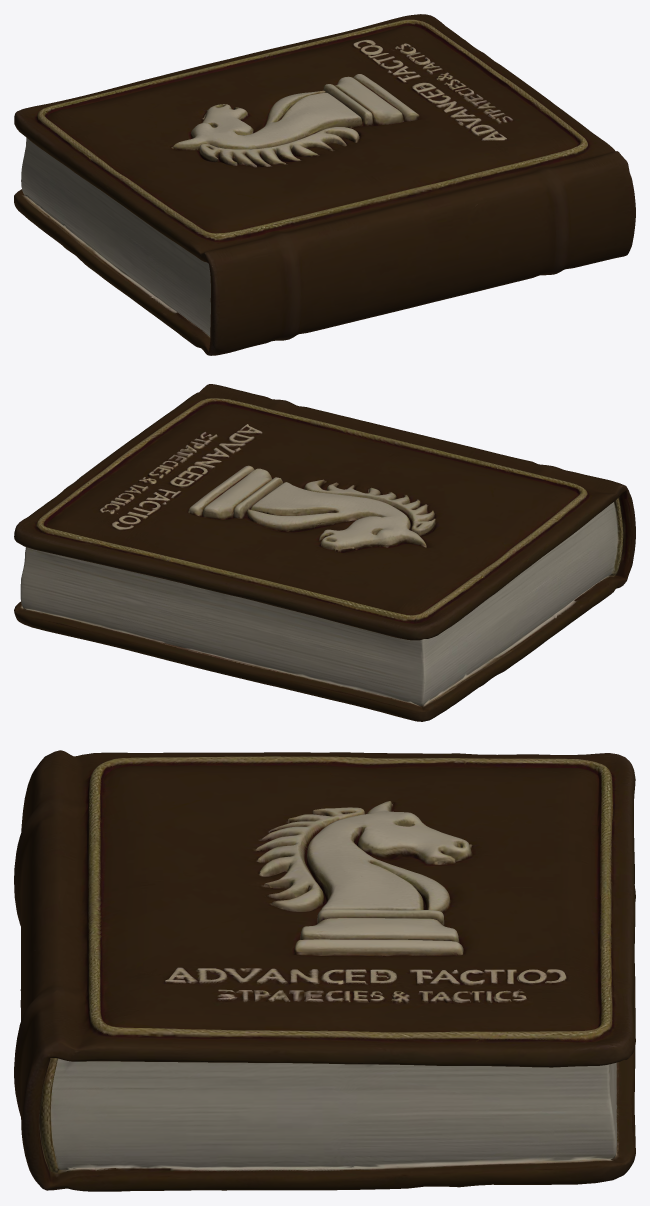
The model's file is book.glb.
The picture shows the model from 3 angles, top to bottom: view 1: azimuth 30°, elevation 25°; view 2: azimuth 150°, elevation 25°; view 3: azimuth 270°, elevation 25°; orthographic projection. The views are drawn at different scales.
Parts seen in each view (by area): view 1: tripo_node_d8d2c67c-946a-4b9e-a3fb-bfd2c93cd060; view 2: tripo_node_d8d2c67c-946a-4b9e-a3fb-bfd2c93cd060; view 3: tripo_node_d8d2c67c-946a-4b9e-a3fb-bfd2c93cd060.
Boxes of the visible parts, <box> form: tripo_node_d8d2c67c-946a-4b9e-a3fb-bfd2c93cd060: <box>14,14,635,355</box>; tripo_node_d8d2c67c-946a-4b9e-a3fb-bfd2c93cd060: <box>14,384,635,721</box>; tripo_node_d8d2c67c-946a-4b9e-a3fb-bfd2c93cd060: <box>14,750,635,1191</box>.
Bounding box in the file's own units: 1 × 0.2685 × 0.876.
1 material, 1 textured.
